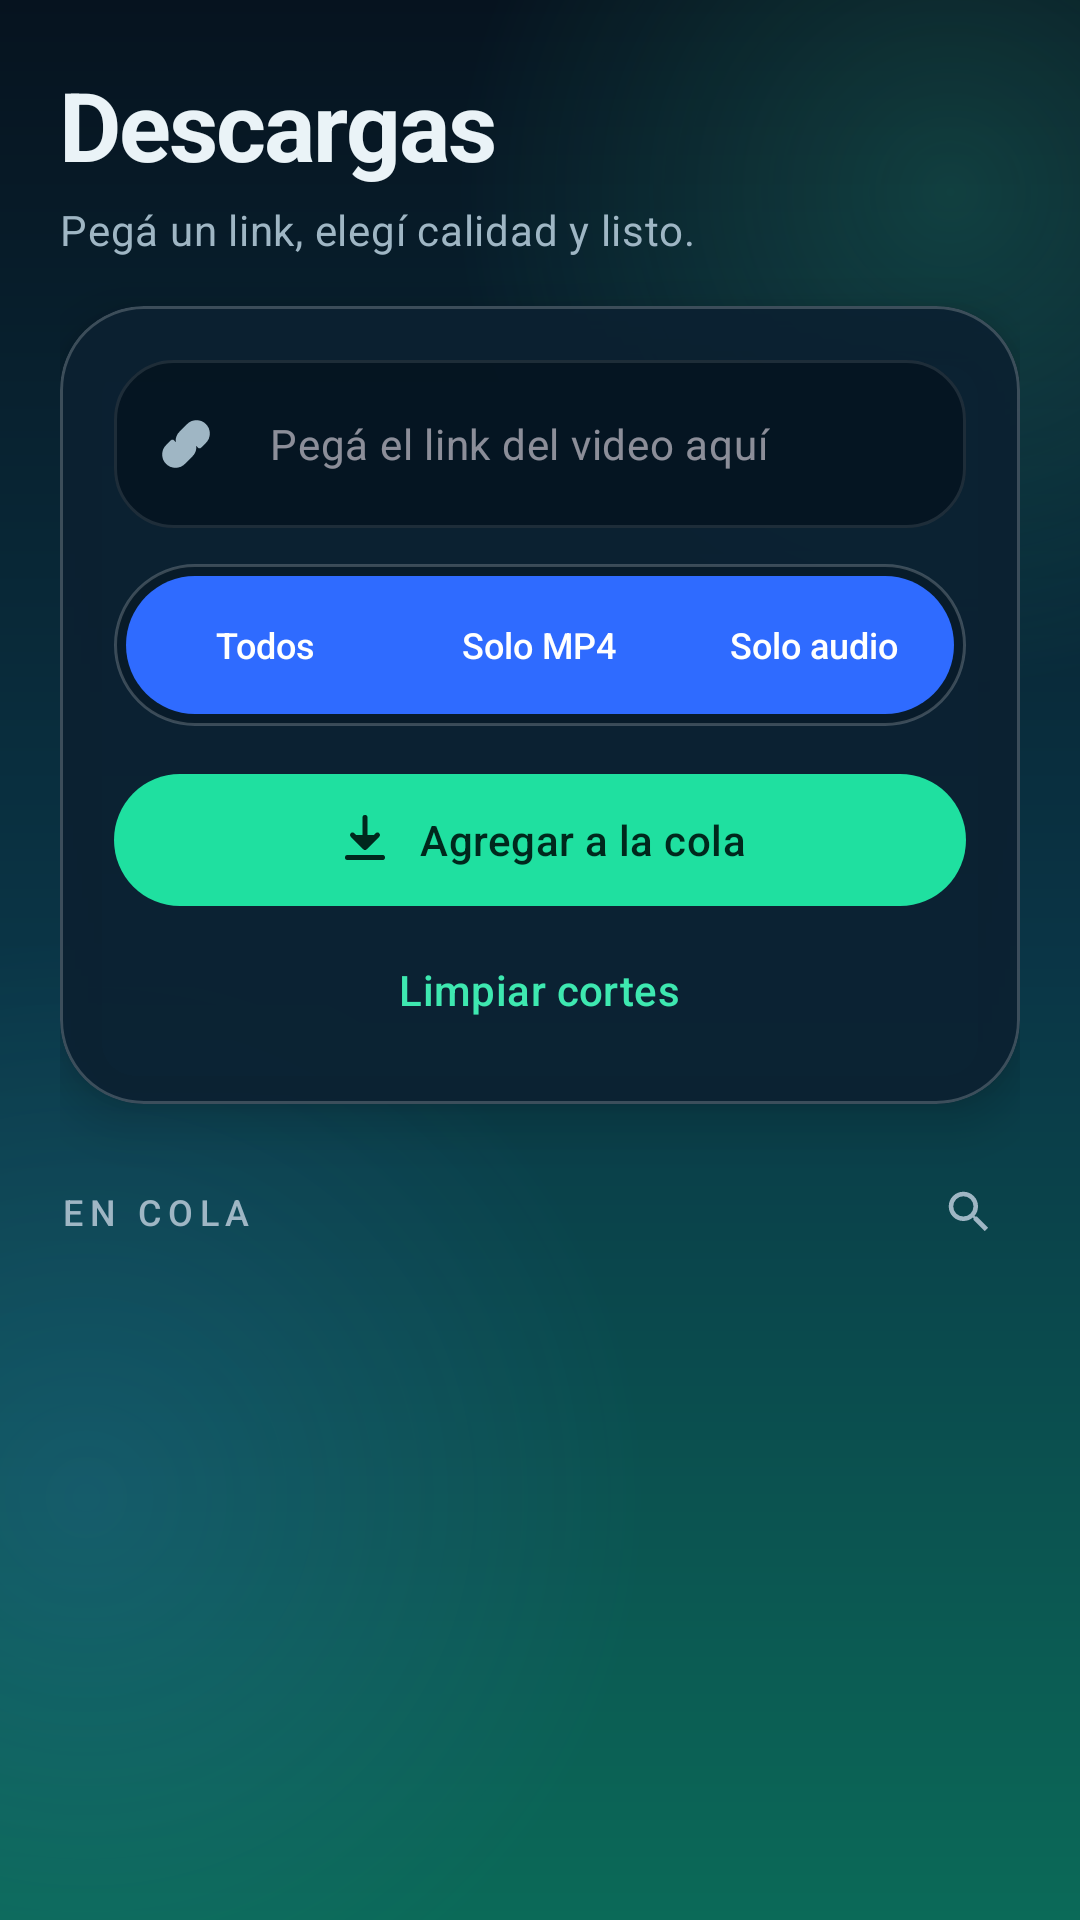

Where to tap for icons on this 1080 x 1920 app screen, as [x,y]:
Buscar en la cola: [968,1211]
